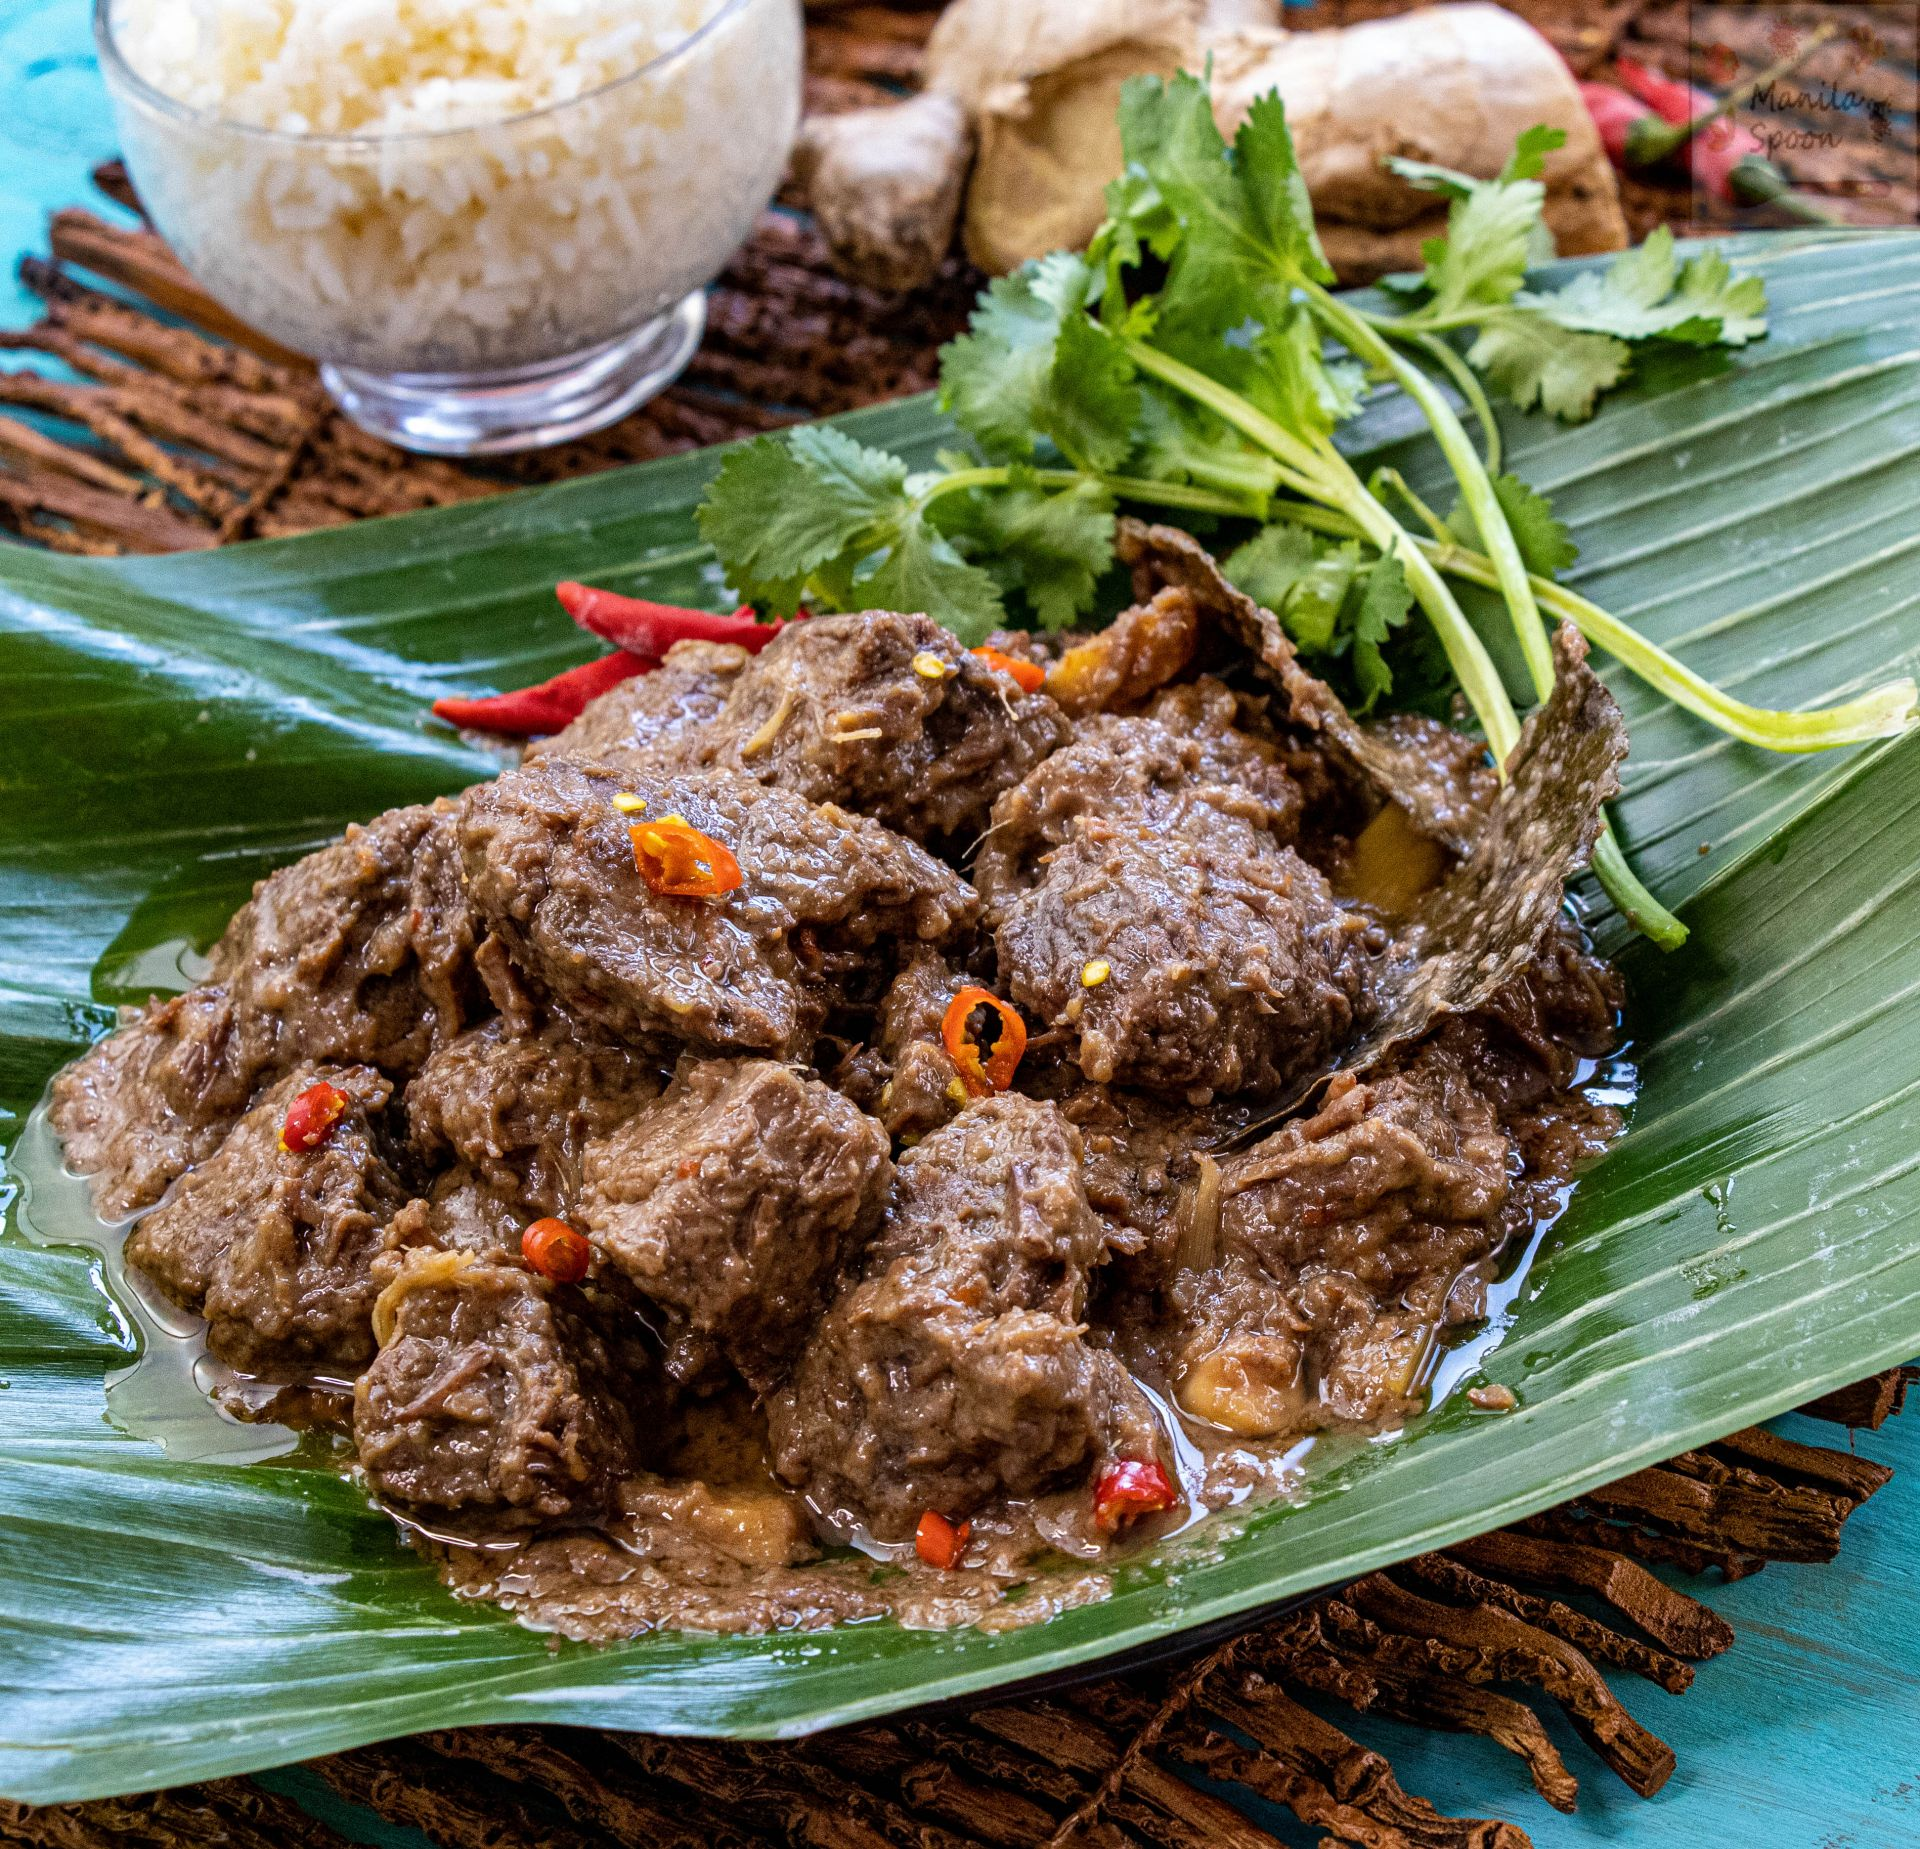rendang: (69, 555, 1769, 1619)
